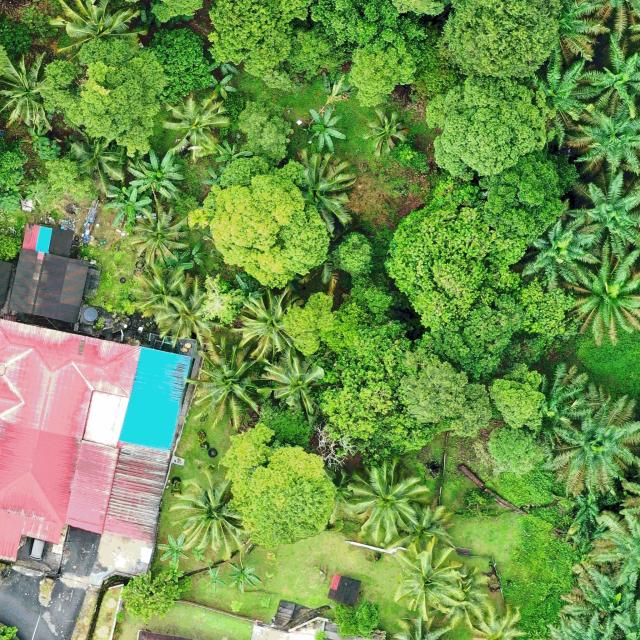Tree: (383, 150, 585, 376), (204, 0, 428, 93), (186, 174, 332, 289), (41, 34, 166, 158), (427, 74, 548, 181), (540, 377, 640, 499), (230, 447, 340, 550), (437, 1, 563, 80), (562, 235, 640, 348), (46, 0, 148, 84), (190, 333, 273, 434), (343, 456, 430, 547), (524, 42, 598, 147), (562, 169, 640, 264), (564, 90, 640, 180), (278, 150, 359, 234), (558, 562, 640, 640), (575, 24, 640, 122), (517, 212, 603, 286), (145, 26, 219, 106), (173, 469, 245, 550), (393, 537, 461, 617), (235, 288, 304, 361), (162, 91, 230, 162), (348, 36, 416, 106), (486, 362, 548, 432), (0, 52, 57, 128), (262, 352, 328, 416), (128, 202, 187, 266), (236, 100, 293, 166), (538, 360, 590, 430), (120, 568, 183, 622), (126, 147, 187, 202), (219, 418, 274, 479), (486, 424, 548, 474), (394, 503, 454, 551), (465, 599, 525, 640), (362, 105, 408, 158), (104, 184, 152, 228), (332, 229, 376, 276), (333, 599, 380, 639), (306, 108, 347, 150), (396, 614, 460, 640), (148, 0, 206, 26), (44, 57, 82, 90), (156, 533, 192, 567), (228, 561, 262, 594), (234, 274, 266, 307), (216, 139, 252, 165), (178, 242, 207, 270), (162, 250, 194, 274), (208, 74, 237, 100), (203, 564, 227, 592)
